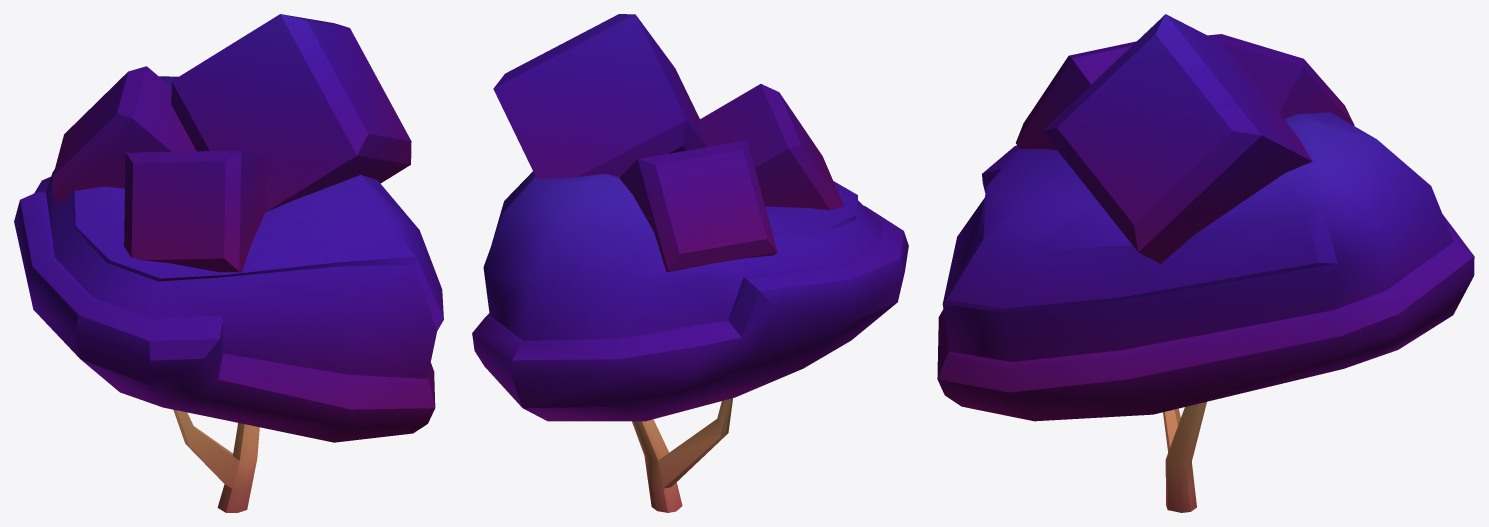
The model's file is Edge_Tree_2.fbx.
The picture shows the model from 3 angles, left to right: view 1: azimuth 30°, elevation 25°; view 2: azimuth 150°, elevation 25°; view 3: azimuth 270°, elevation 25°; orthographic projection. The views are drawn at different scales.
Visible parts, largest first — view 1: Edge_Tree_v2; view 2: Edge_Tree_v2; view 3: Edge_Tree_v2.
Part boxes in pixels (x1,y1,x2,y2): Edge_Tree_v2: (14, 14, 443, 512); Edge_Tree_v2: (472, 14, 908, 512); Edge_Tree_v2: (937, 14, 1474, 512).
Bounding box in the file's own units: 198 × 259 × 246.
